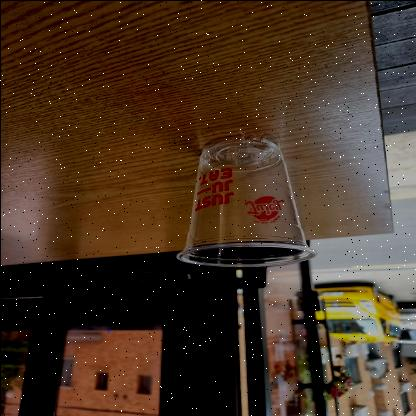Others: (172, 132, 320, 270)
